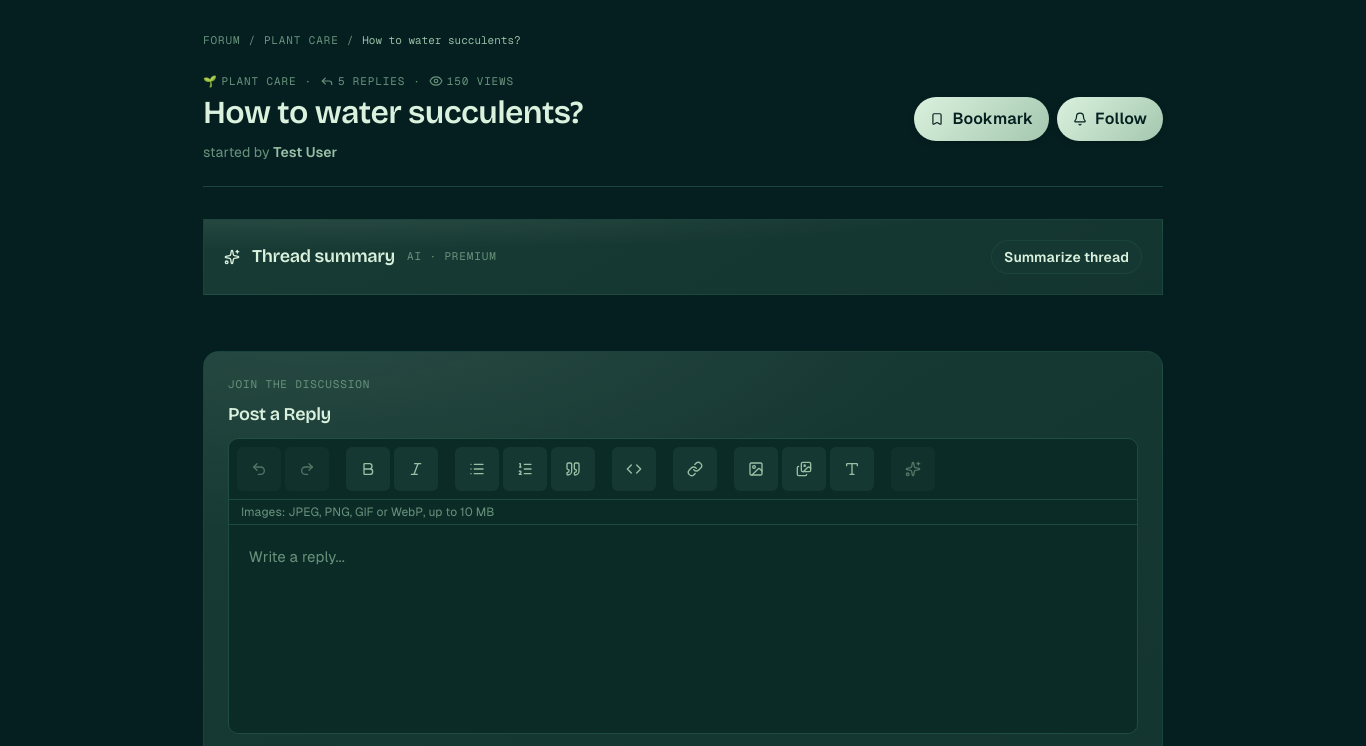
Test: ThreadDetailPage › offers Summarize thread to a signed-in user and renders the summary for this topic
The width and height of the screenshot is (1366, 746).
Click the button "Summarize thread".
click(1067, 257)  # box [991,240,1142,274]
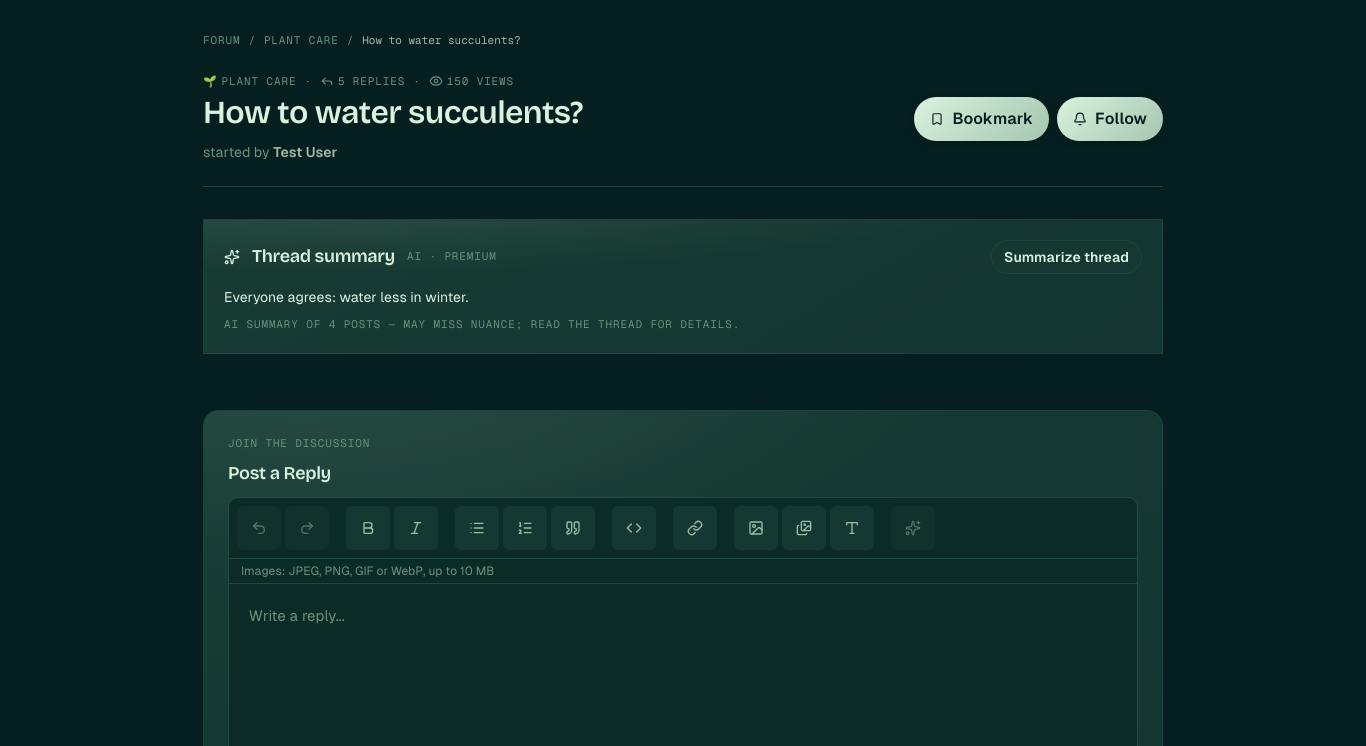
Expected: the text "Everyone agrees: water less in winter." is shown, [224,289,468,305]
